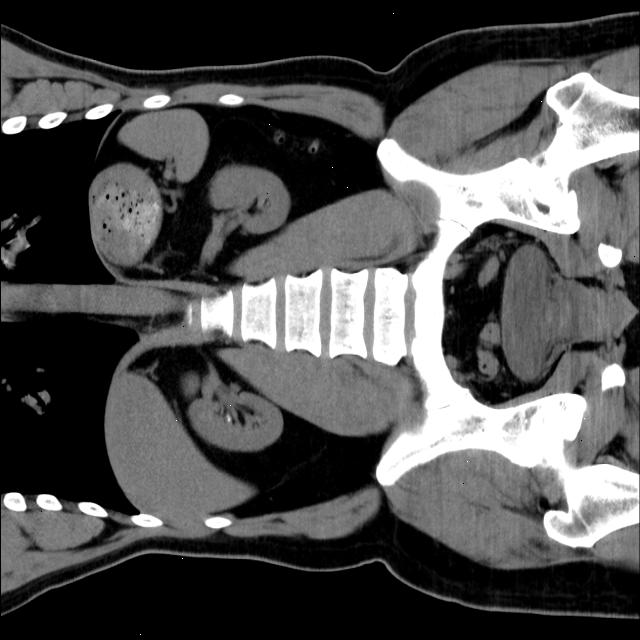kidneystone: (220, 410, 232, 423)
